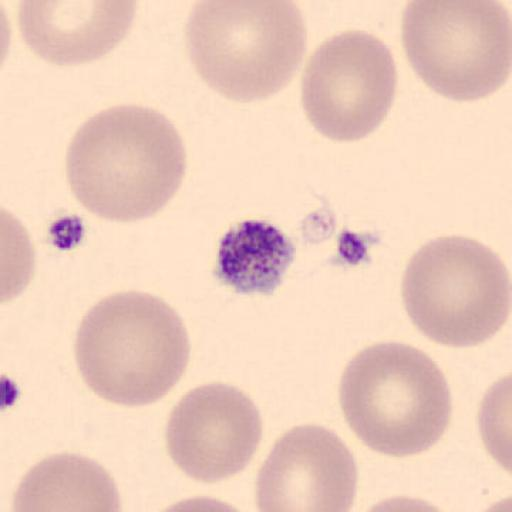Platelet: (208, 216, 298, 297), (43, 210, 92, 254)
RBC: (64, 101, 188, 225), (72, 288, 193, 410), (336, 338, 454, 460), (398, 231, 512, 350), (183, 1, 309, 105), (399, 0, 511, 104), (299, 28, 399, 144), (164, 380, 264, 486), (254, 421, 359, 512), (16, 0, 139, 68), (9, 450, 123, 512), (476, 370, 512, 476), (1, 206, 37, 306), (345, 492, 464, 512), (137, 493, 260, 512), (0, 0, 14, 76), (0, 0, 10, 86), (472, 492, 512, 512)
